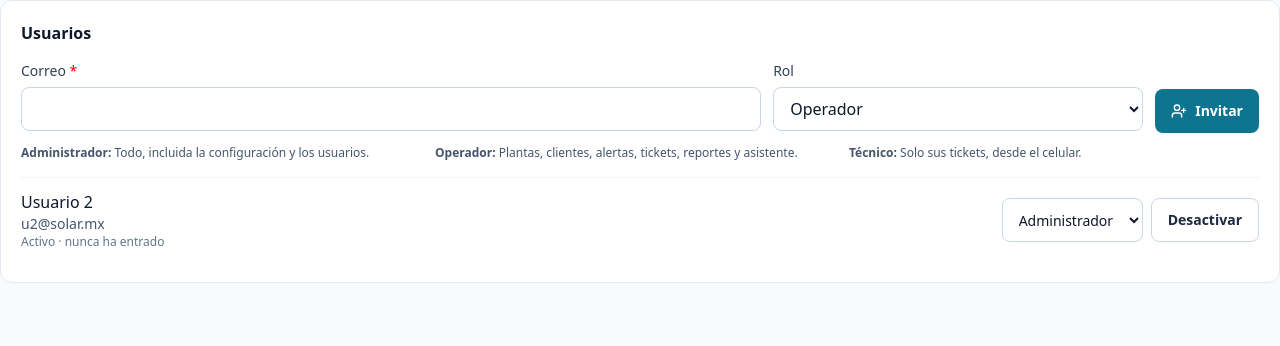
Test: usuarios › muestra el error de la API (último administrador)
Step 1. Select "Operador" in the dropdown named "Rol de Usuario 2" → {"x": 1072, "y": 220}, box [1002,198,1143,242]
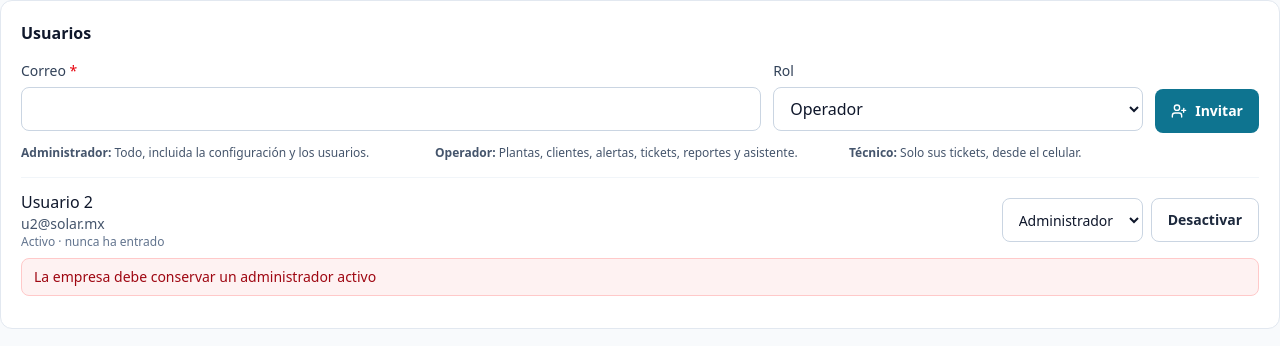
Expected: the text "La empresa debe conservar un administrador activo" is shown, [21,258,1259,296]
